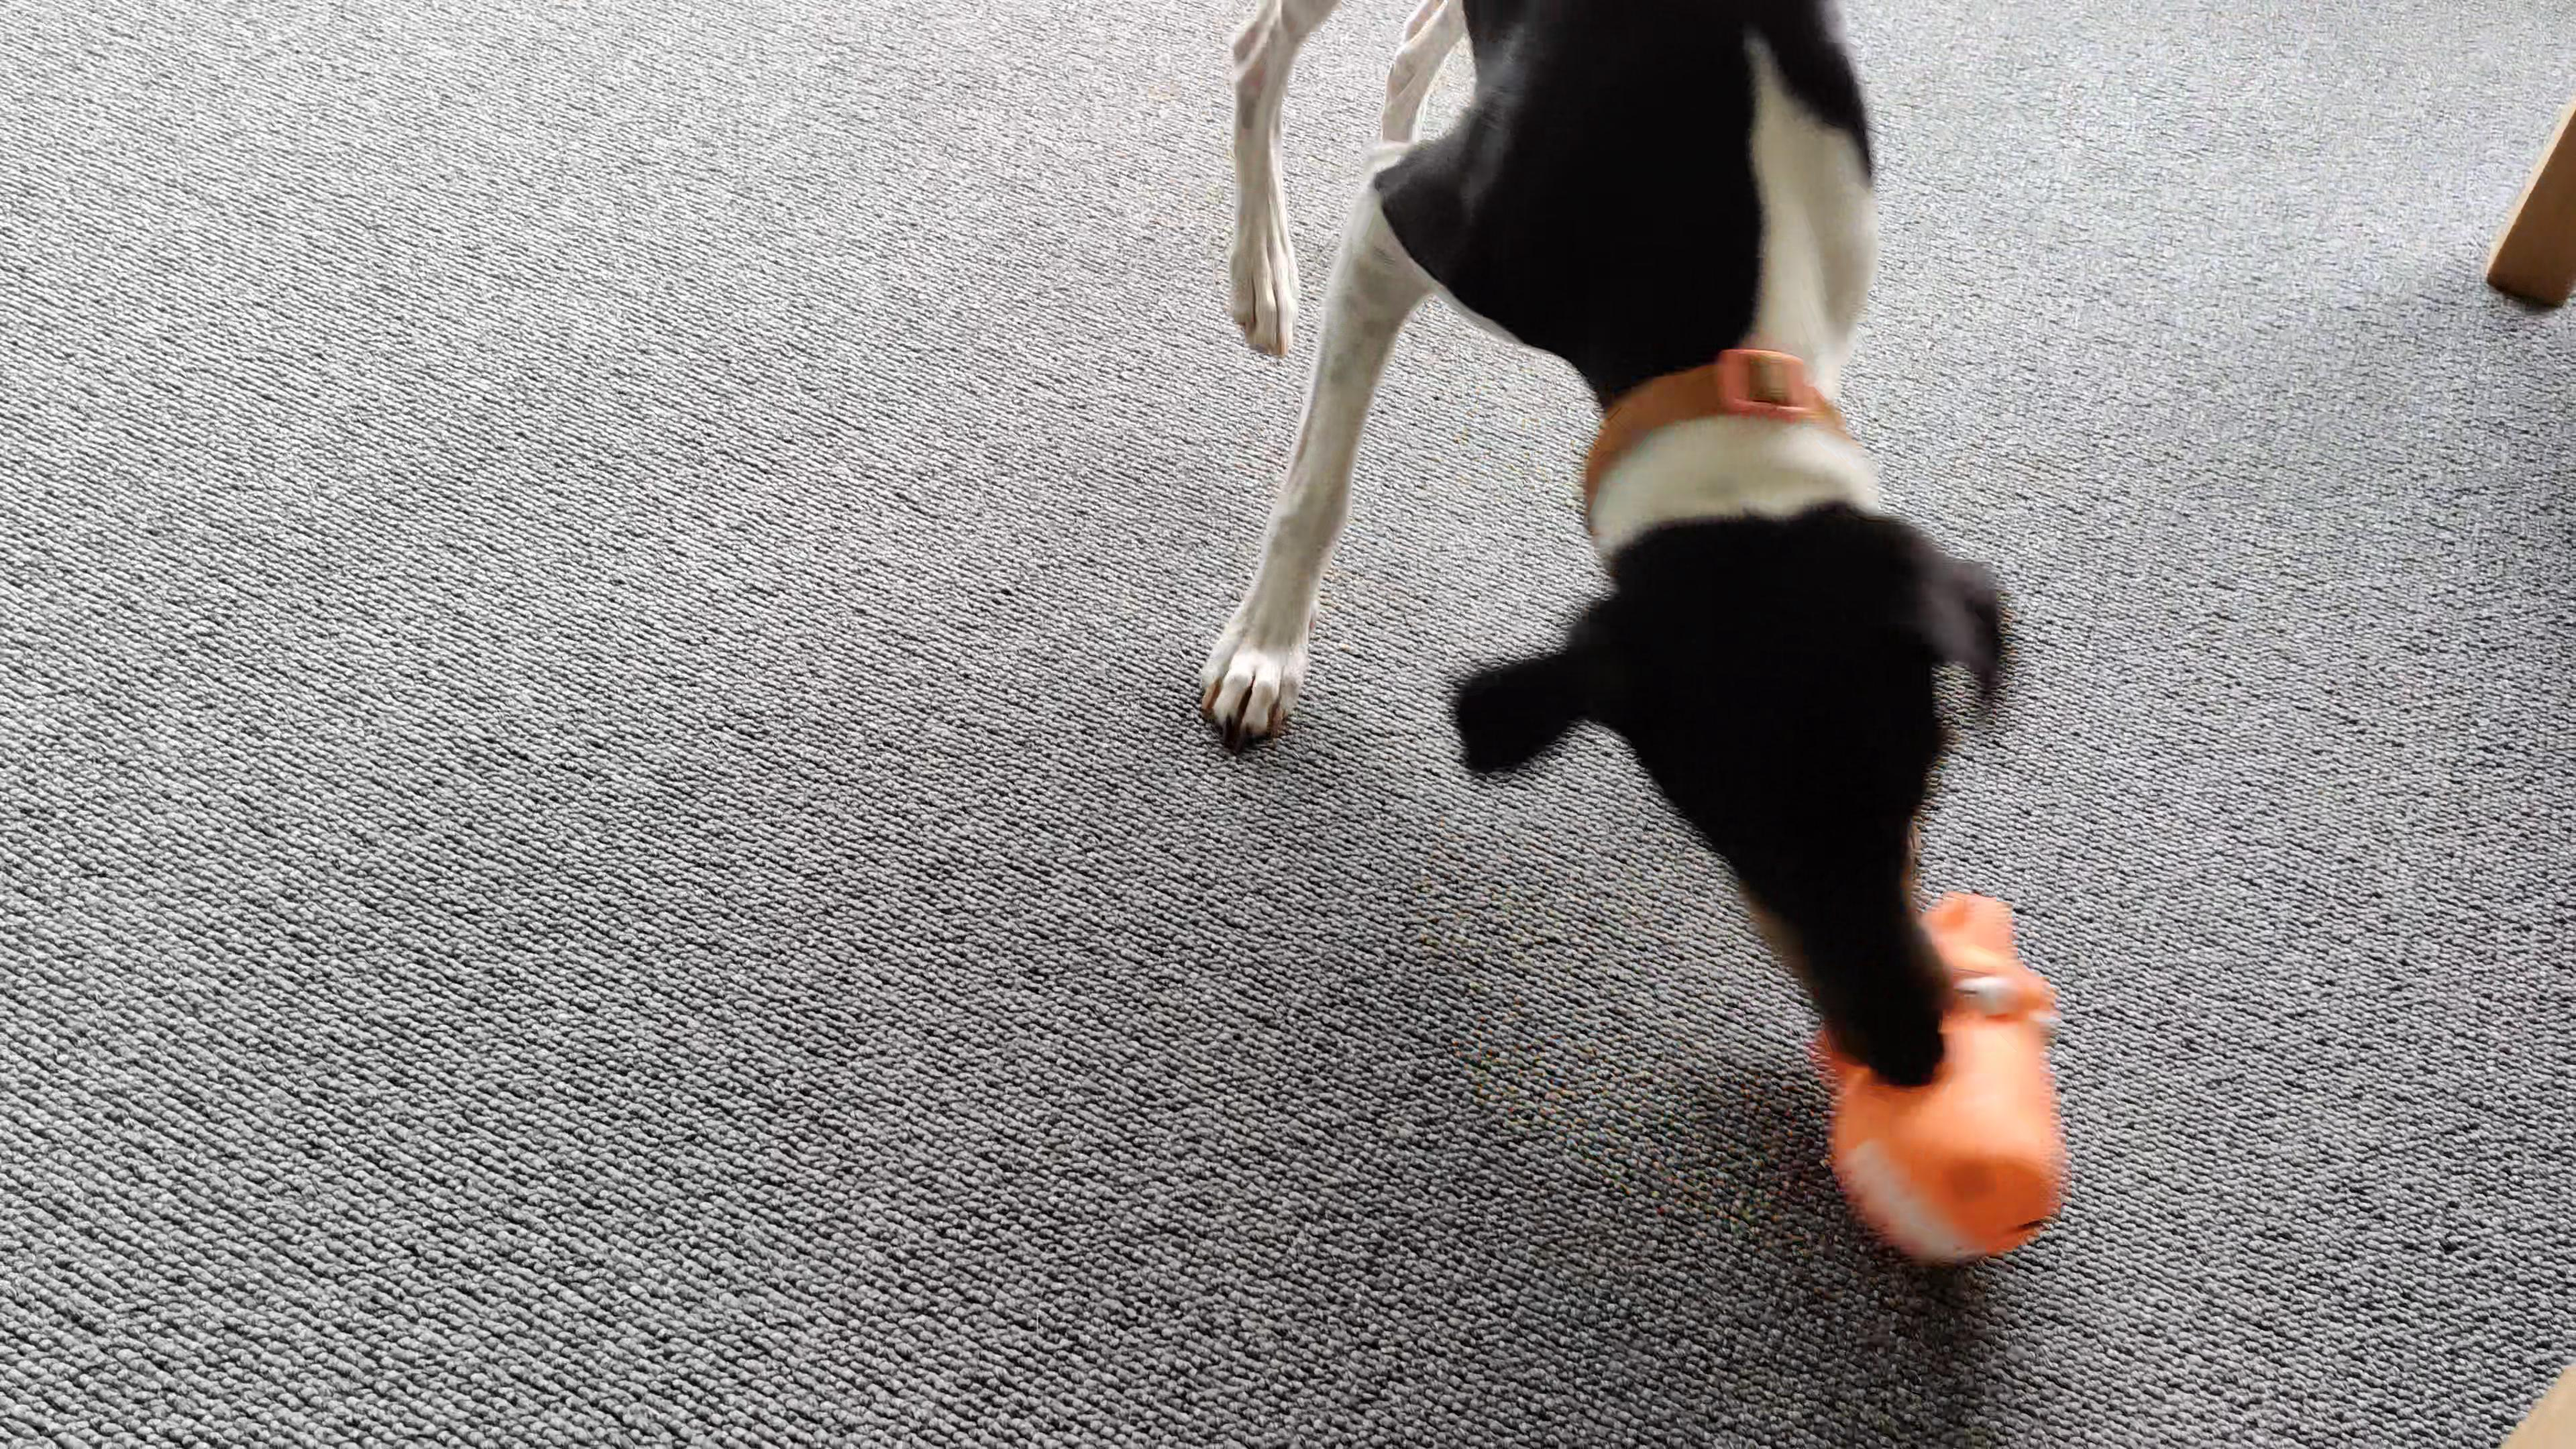Dog: (1189, 0, 2019, 1095)
